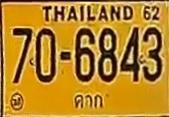0: (35, 28, 55, 82)
3: (141, 26, 161, 80)
4: (120, 26, 139, 81)
6: (75, 27, 94, 81)
7: (12, 27, 32, 82)
8: (97, 27, 116, 81)
TAK: (72, 92, 105, 110)
